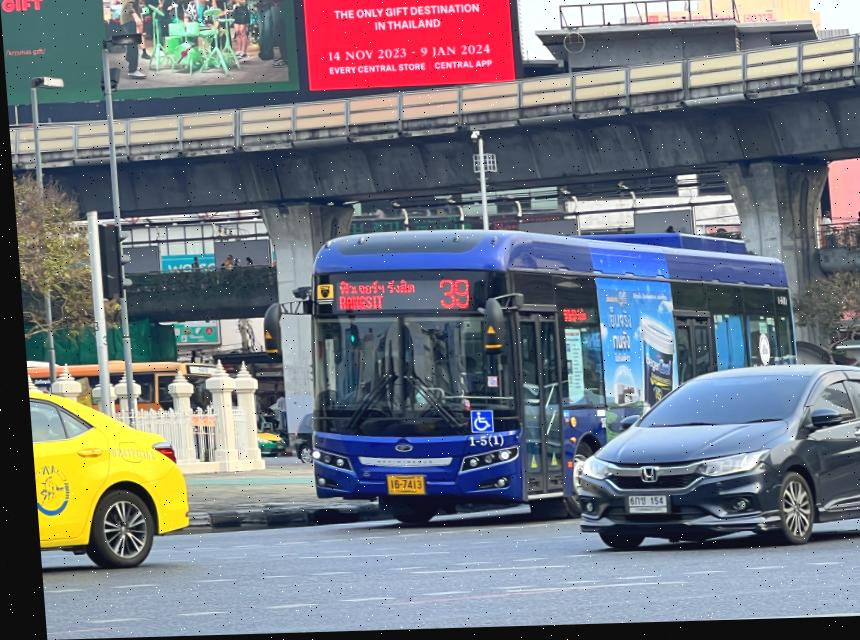Bus Line Number: (429, 278, 471, 316)
Bus Side Number: (461, 436, 499, 453)
Destination Sign: (329, 277, 418, 321)
TSB-Bus: (302, 233, 788, 529)
